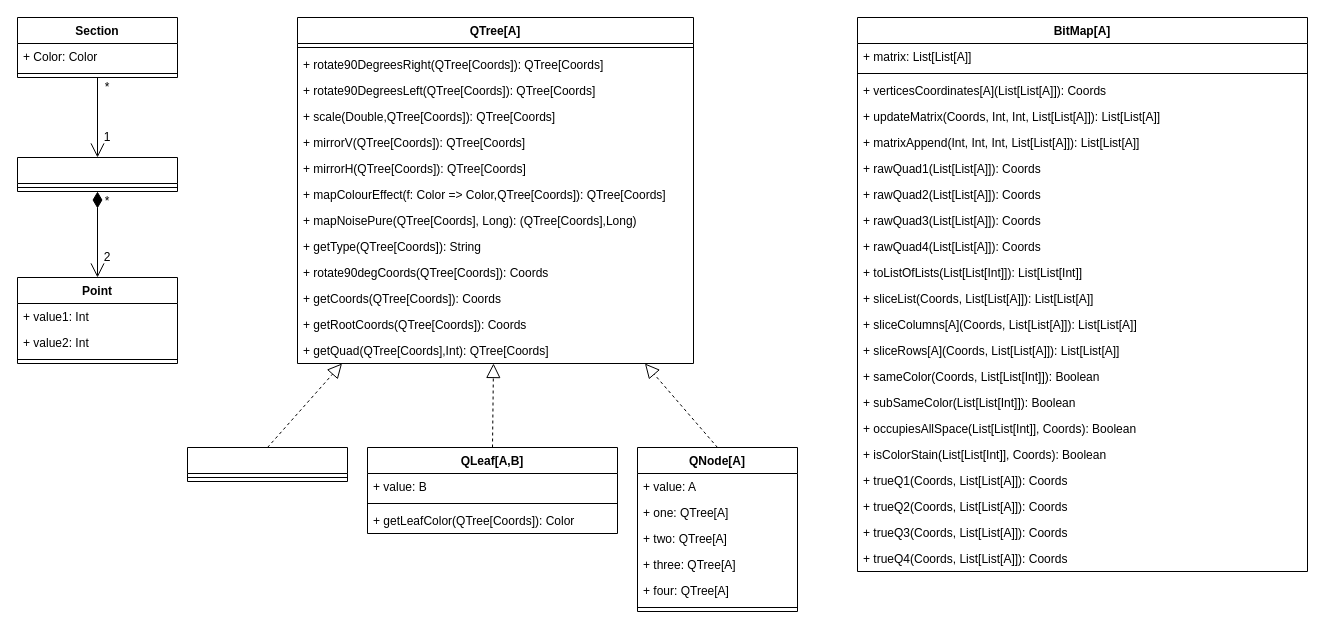
The diagram is 1325 pixels wide and 629 high, and some of its shapes have lost their labels. The centre of each missing label's shape, as x and y in pixels:
"Coords" belongs at point 97,174.
"QEmpty : QTree[Nothing]" belongs at point 267,464.
